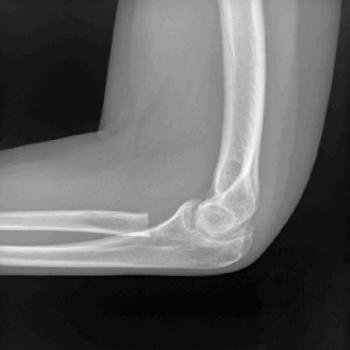Fracture: (132, 194, 190, 244)
